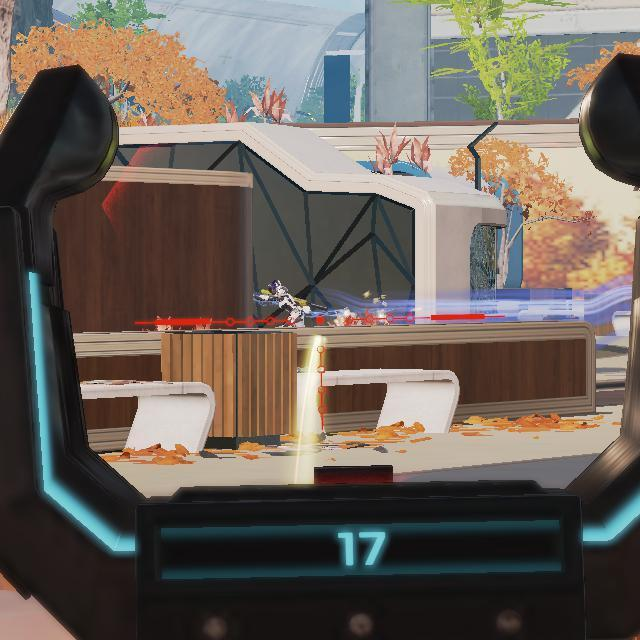avatar: (252, 278, 305, 327)
